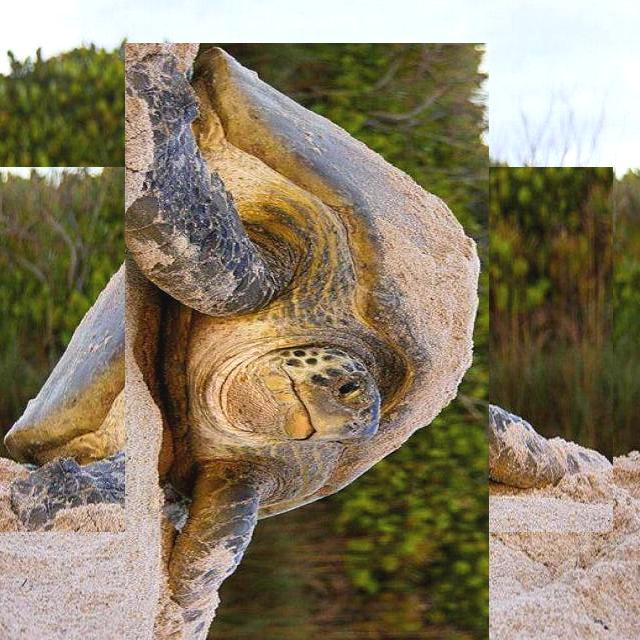Sea turtle: (62, 105, 551, 594)
